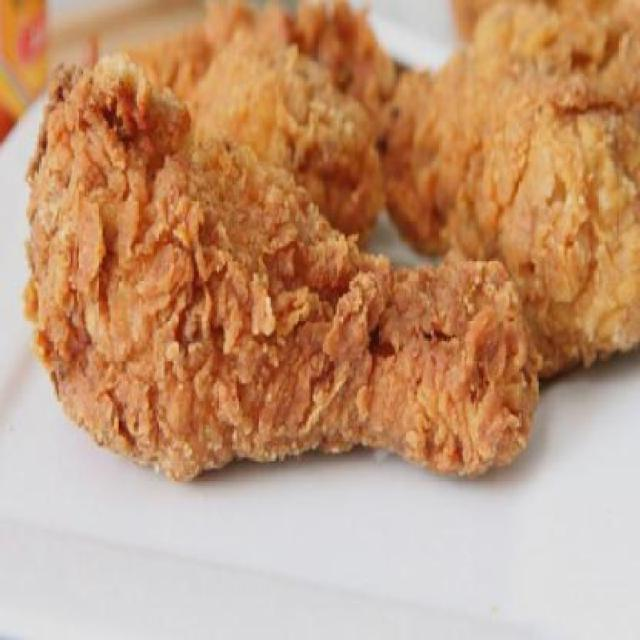Chicken -Fried Chicken-: (21, 0, 640, 484)
